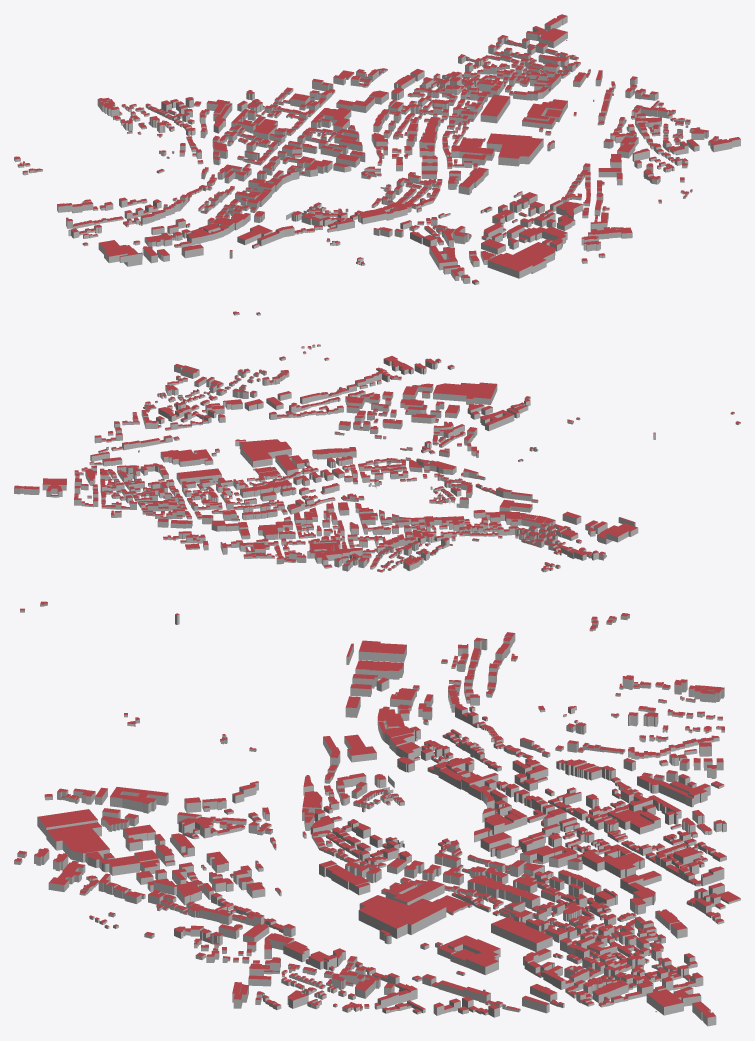
The model's file is umgebung.gltf.
The picture shows the model from 3 angles, top to bottom: view 1: azimuth 30°, elevation 25°; view 2: azimuth 150°, elevation 25°; view 3: azimuth 270°, elevation 25°; orthographic projection. The views are drawn at different scales.
Visible parts, largest first — view 1: OSM Buildings edited; view 2: OSM Buildings edited; view 3: OSM Buildings edited.
Part boxes in pixels (box(x1,y1,x2,y2)): OSM Buildings edited: box(14, 14, 740, 315); OSM Buildings edited: box(14, 344, 740, 572); OSM Buildings edited: box(14, 601, 740, 1026).
Size of the model in its own units: 1620 by 161 by 1316.
